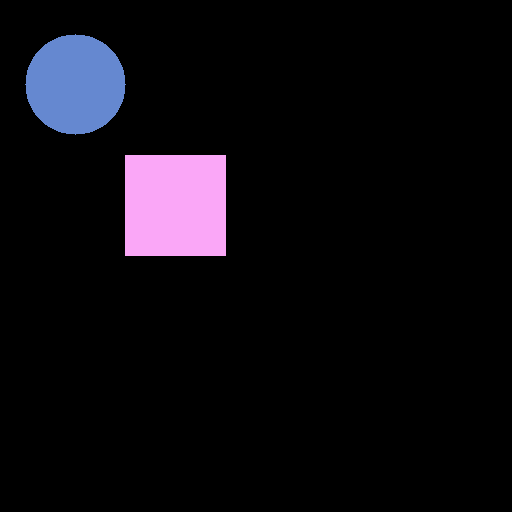circle: (25, 34, 125, 134)
square: (125, 155, 225, 255)
